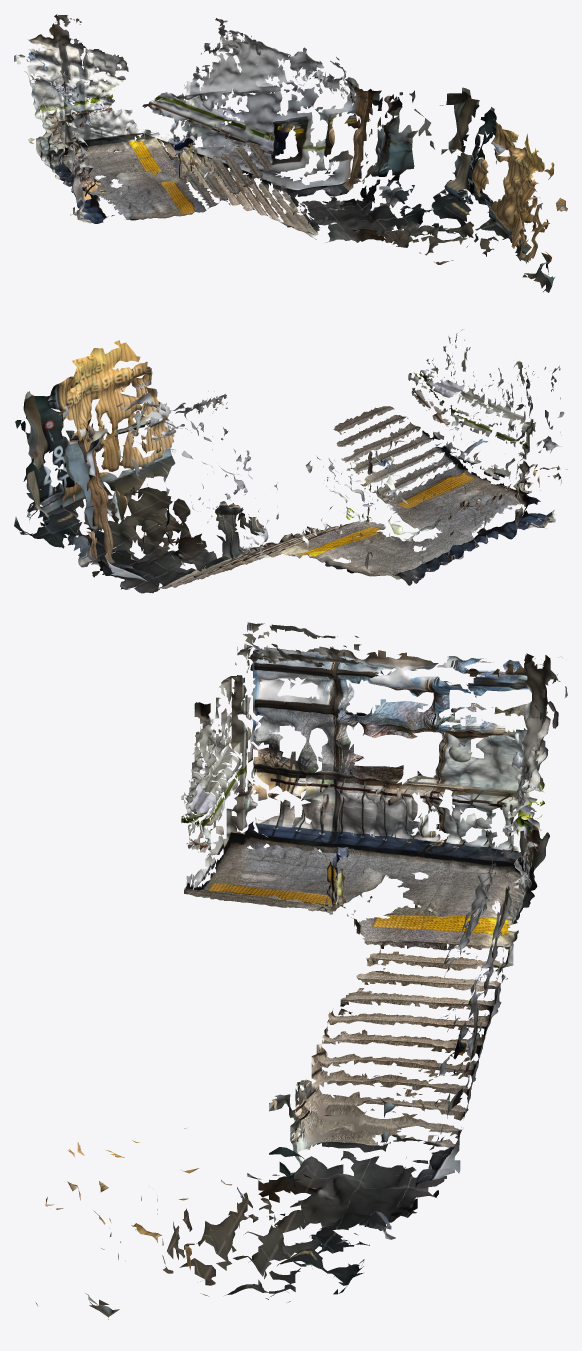
The model's file is 138615-Stair-tex.glb.
3 renders of one model, top to bottom at view 1: azimuth 30°, elevation 25°; view 2: azimuth 150°, elevation 25°; view 3: azimuth 270°, elevation 25°, orthographic. The views are drawn at different scales.
Visible parts, largest first — view 1: Node; view 2: Node; view 3: Node.
Part boxes in pixels (x1=…): Node: x1=14, y1=14, x2=567, y2=292; Node: x1=14, y1=329, x2=567, y2=593; Node: x1=36, y1=622, x2=567, y2=1319.
Bounding box in the file's own units: 10.35 × 5.56 × 6.98.
15 materials, 15 textured.
